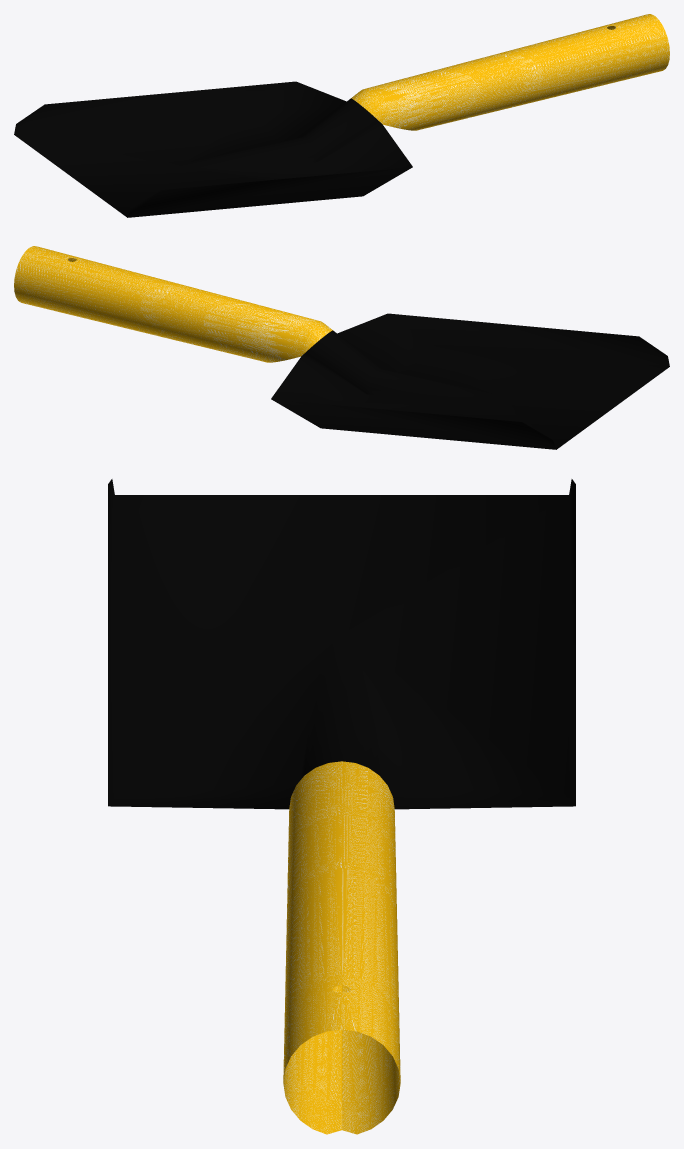
The model's file is shovel_02_origin_gt_1.dae.
3 renders of one model, top to bottom at view 1: azimuth 30°, elevation 25°; view 2: azimuth 150°, elevation 25°; view 3: azimuth 270°, elevation 25°, orthographic. The views are drawn at different scales.
Visible parts, largest first — view 1: Coal_Shovel (×2); view 2: Coal_Shovel (×2); view 3: Coal_Shovel (×2).
Part boxes in pixels (x1=…): Coal_Shovel (×2): x1=14, y1=14, x2=669, y2=217; Coal_Shovel (×2): x1=14, y1=246, x2=669, y2=449; Coal_Shovel (×2): x1=108, y1=479, x2=575, y2=1134.
Bounding box in the file's own units: 14.5 × 5.02 × 1.35.
